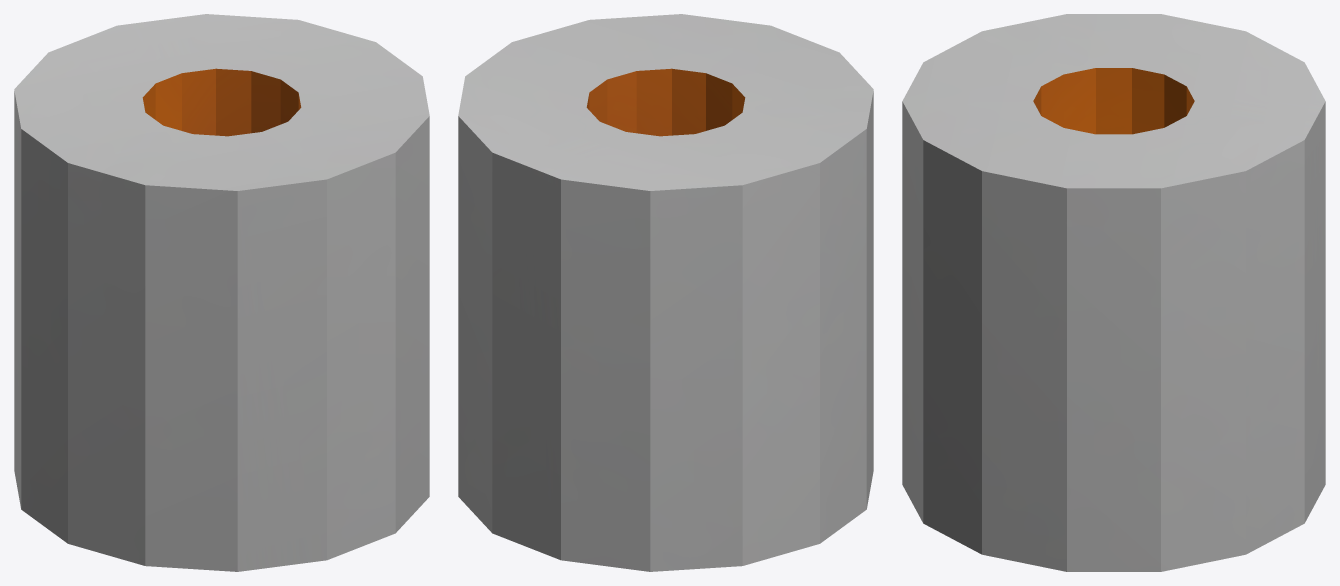
Rendered from toilet_paper.glb.
The picture shows the model from 3 angles, left to right: view 1: azimuth 30°, elevation 25°; view 2: azimuth 150°, elevation 25°; view 3: azimuth 270°, elevation 25°; orthographic projection.
Parts seen in each view (by area): view 1: toilet_paper; view 2: toilet_paper; view 3: toilet_paper.
Boxes of the visible parts, left/top/right/bottom form: toilet_paper: left=14, top=14, right=429, bottom=571; toilet_paper: left=458, top=14, right=873, bottom=571; toilet_paper: left=902, top=14, right=1325, bottom=571.
Bounding box in the file's own units: 0.3329 × 0.3415 × 0.3415.
1 material, 1 textured.
